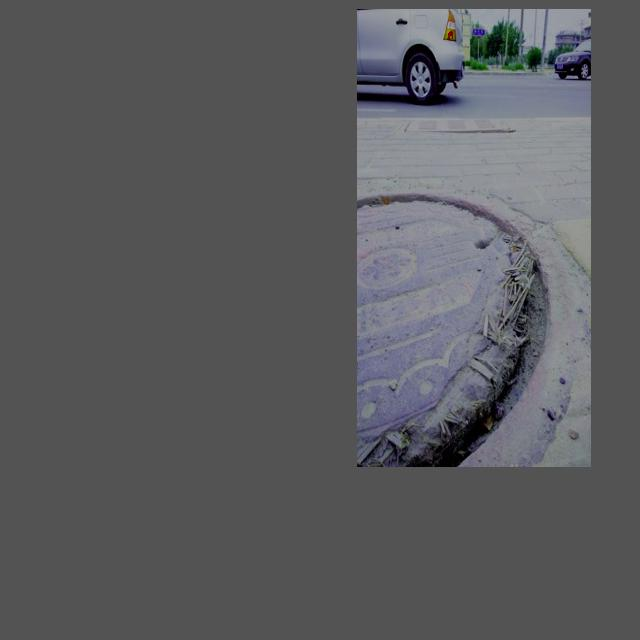circle: (362, 178, 578, 458)
